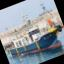fishing boat: (1, 15, 64, 64)
